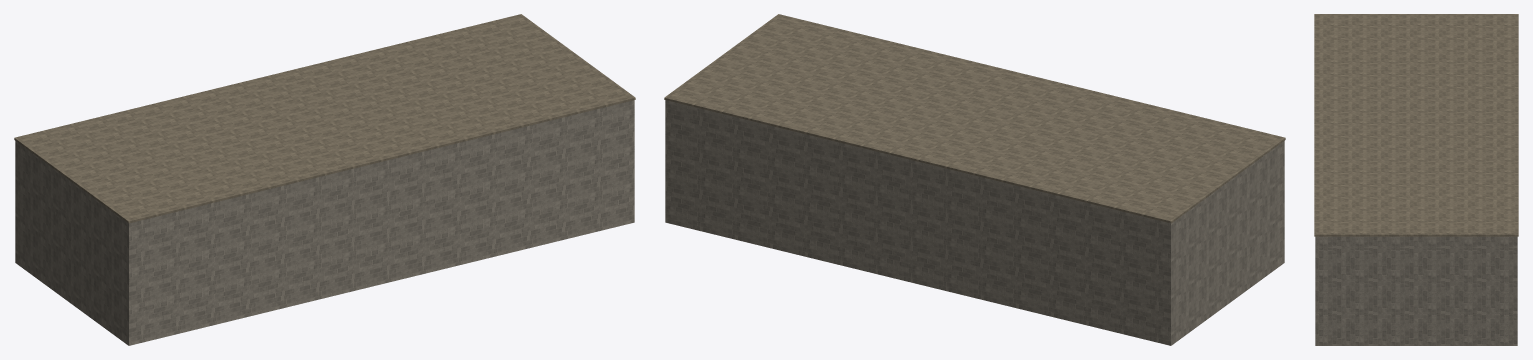
File: SM_Art_Masonry_3600x1400x850.gltf
3 views of the same model, side by side, from view 1: azimuth 30°, elevation 25°; view 2: azimuth 150°, elevation 25°; view 3: azimuth 270°, elevation 25° (orthographic). The views are drawn at different scales.
Visible parts, largest first — view 1: SM_Art_Masonry_3600x1400x850; view 2: SM_Art_Masonry_3600x1400x850; view 3: SM_Art_Masonry_3600x1400x850.
Boxes of the visible parts, x1=… form: SM_Art_Masonry_3600x1400x850: x1=14, y1=14, x2=635, y2=345; SM_Art_Masonry_3600x1400x850: x1=664, y1=14, x2=1285, y2=345; SM_Art_Masonry_3600x1400x850: x1=1314, y1=14, x2=1518, y2=345.
Bounding box in the file's own units: 36.1 × 8.5 × 14.1.
Materials: 2 (2 with a texture image).
